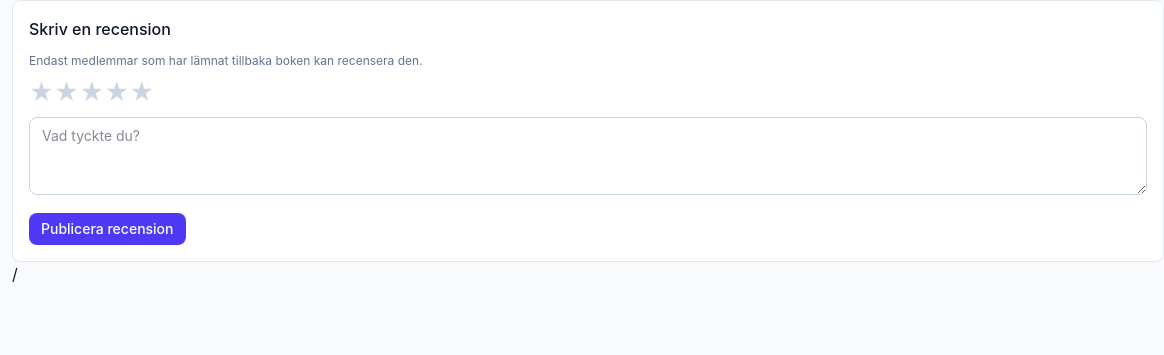
Test: NewReviewForm › rollen Medlem: recenserar som sessionens medlem, utan väljare
The width and height of the screenshot is (1164, 355).
Click the button named "4 stjärnor" at (117, 93), box [104,81,129,105]
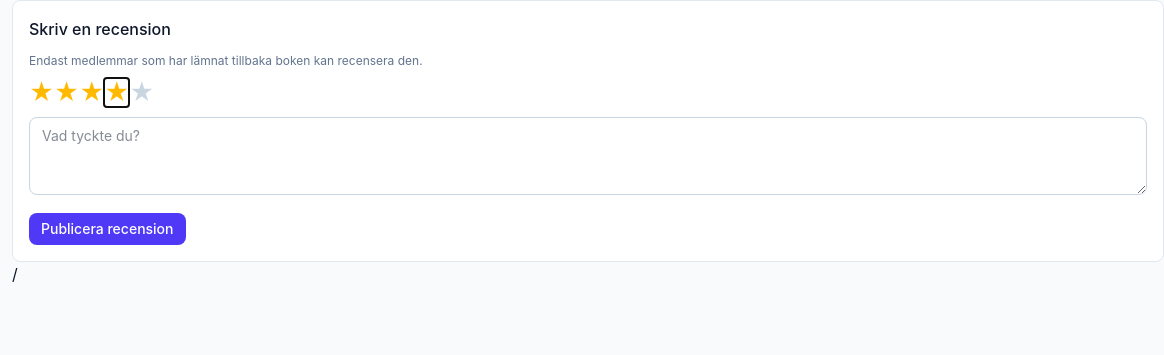
Type "Mycket bra" into the text box with placeholder "Vad tyckte du?" at (588, 156), box [29,117,1147,195]
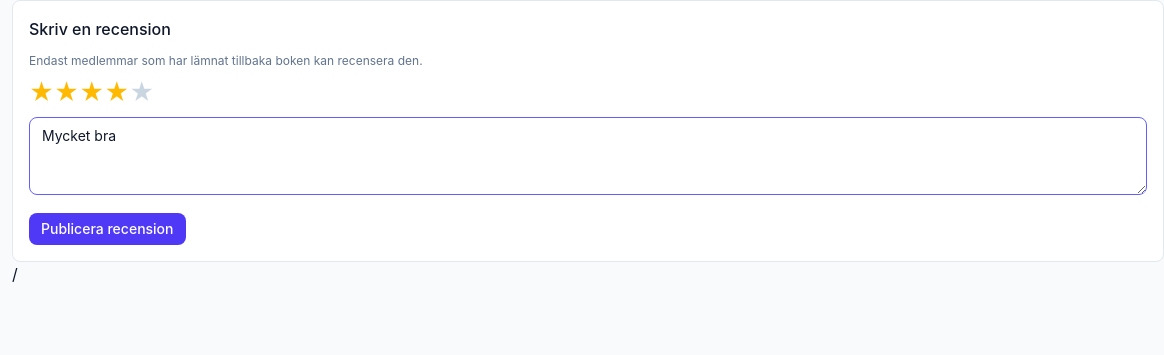
Click the button "Publicera recension" at (107, 229), box [29,213,186,245]
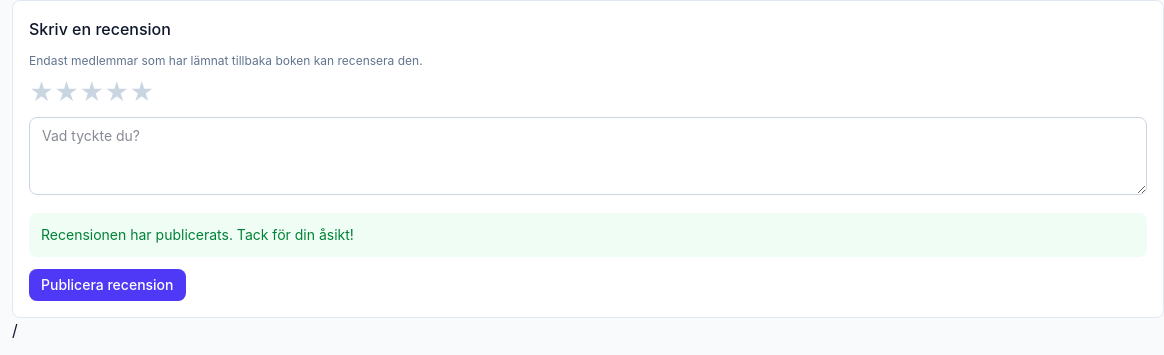
Expected: the text "Recensionen har publicerats. Tack för din åsikt!" is shown, [29,213,1147,257]
